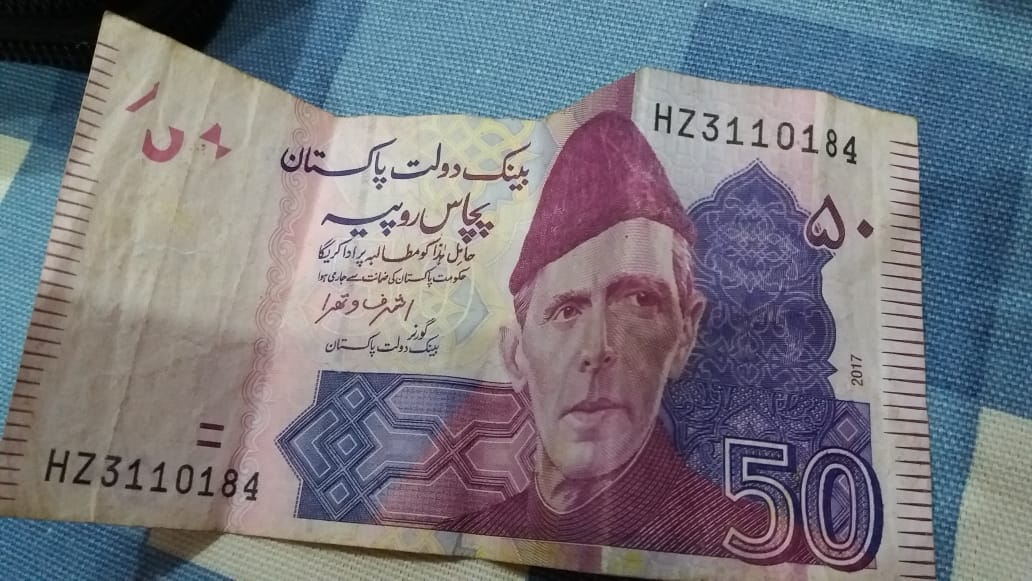50 rupee: (6, 12, 953, 581)
